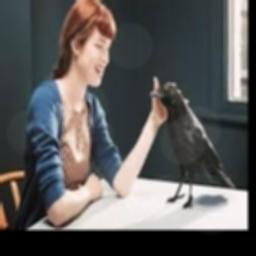Crow: (148, 84, 235, 209)
